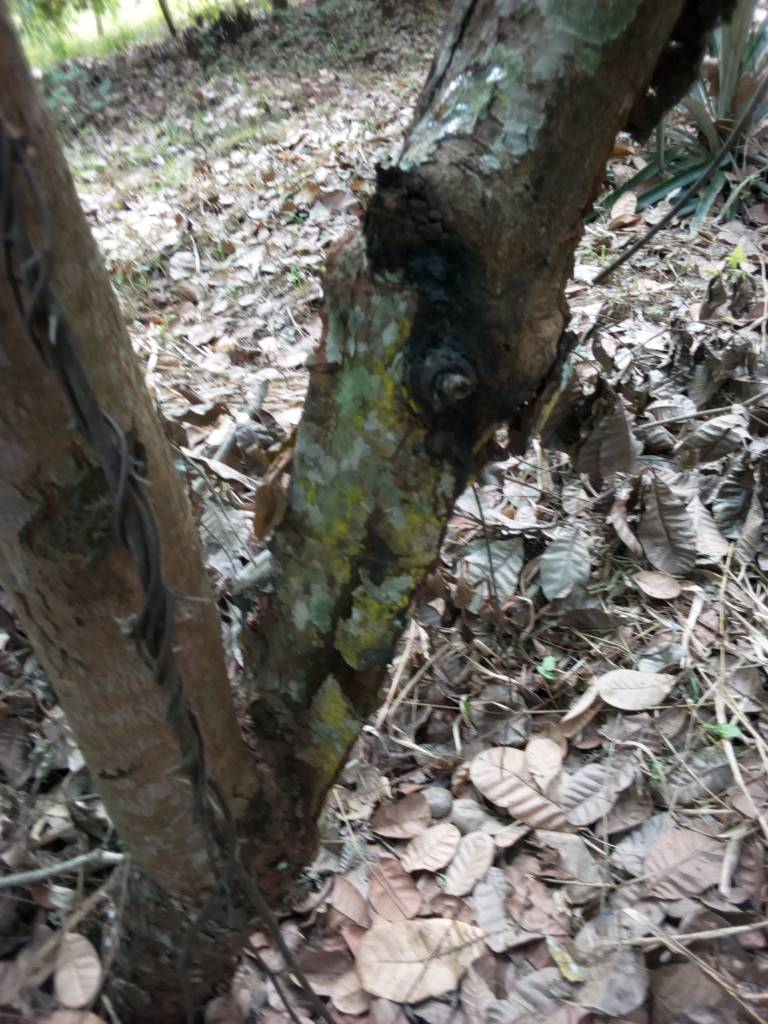Mecocorynus longiceps: (365, 215, 520, 538)
